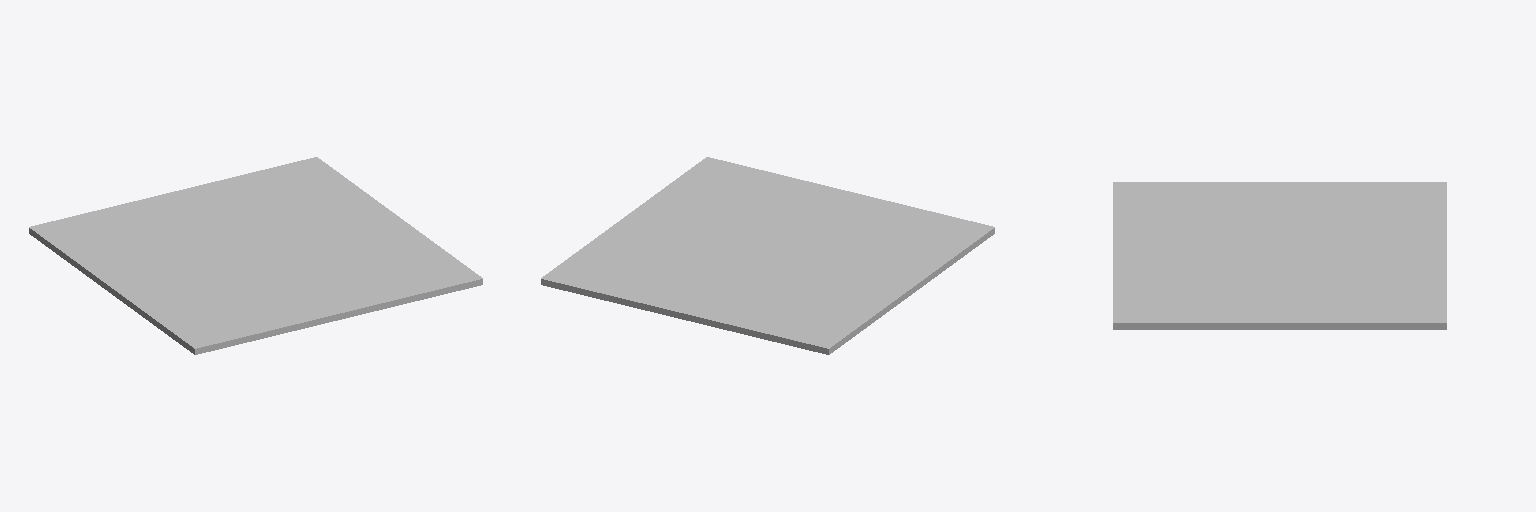
The model's file is tile.obj.
The picture shows the model from 3 angles: view 1: azimuth 30°, elevation 25°; view 2: azimuth 150°, elevation 25°; view 3: azimuth 270°, elevation 25°; orthographic projection.
Visible parts, largest first — view 1: group[number redacted]; view 2: group[number redacted]; view 3: group[number redacted].
Boxes of the visible parts, x1,y1,x2,y2 form: group[number redacted]: [29, 157, 482, 354]; group[number redacted]: [541, 157, 994, 354]; group[number redacted]: [1113, 182, 1446, 329].
Bounding box in the file's own units: 0.96 × 0.02 × 0.96.